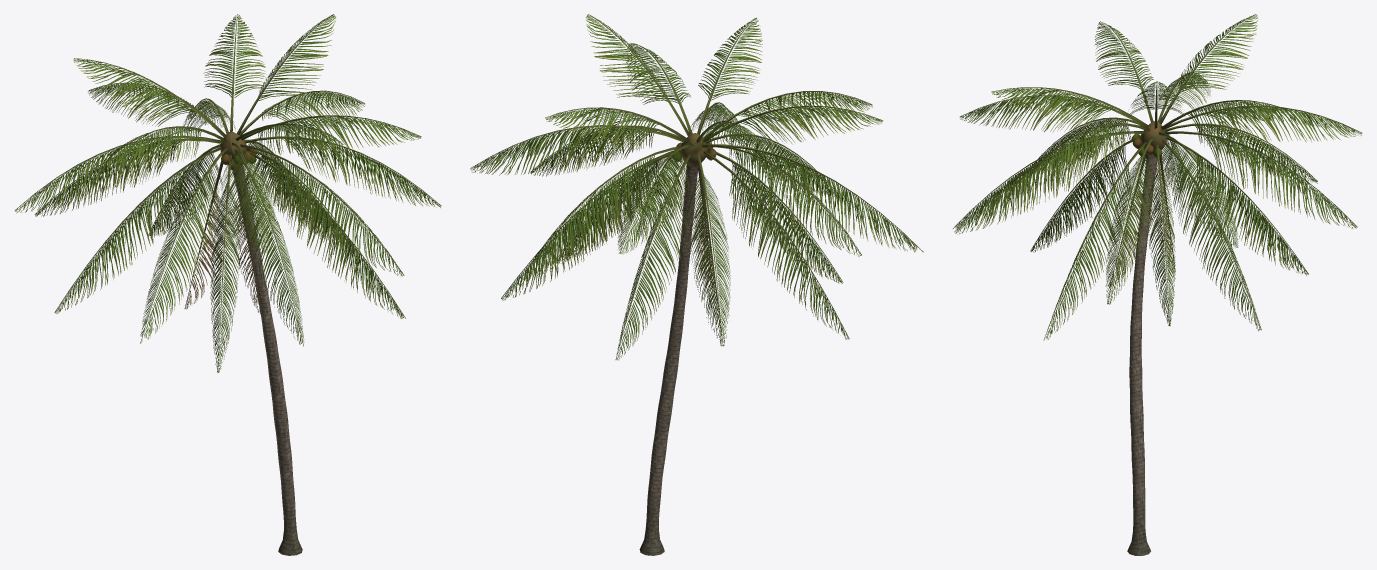
Rendered from palm_a.glb.
3 views of the same model, side by side, from view 1: azimuth 30°, elevation 25°; view 2: azimuth 150°, elevation 25°; view 3: azimuth 270°, elevation 25° (orthographic). The views are drawn at different scales.
Visible parts, largest first — view 1: palm_a_fronds, palm_a_misc, palm_a_trunk; view 2: palm_a_fronds, palm_a_misc, palm_a_trunk; view 3: palm_a_fronds, palm_a_misc, palm_a_trunk.
Boxes of the visible parts, x1,y1,x2,y2 form: palm_a_fronds: [15, 14, 441, 372]; palm_a_misc: [14, 14, 441, 372]; palm_a_trunk: [232, 164, 302, 555]; palm_a_fronds: [470, 14, 922, 360]; palm_a_misc: [470, 14, 923, 359]; palm_a_trunk: [639, 165, 698, 555]; palm_a_fronds: [955, 14, 1361, 339]; palm_a_misc: [953, 14, 1361, 340]; palm_a_trunk: [1127, 153, 1157, 555].
Size of the model in its own units: 9.6 by 12.64 by 9.51.
Materials: 3 (2 with a texture image).
